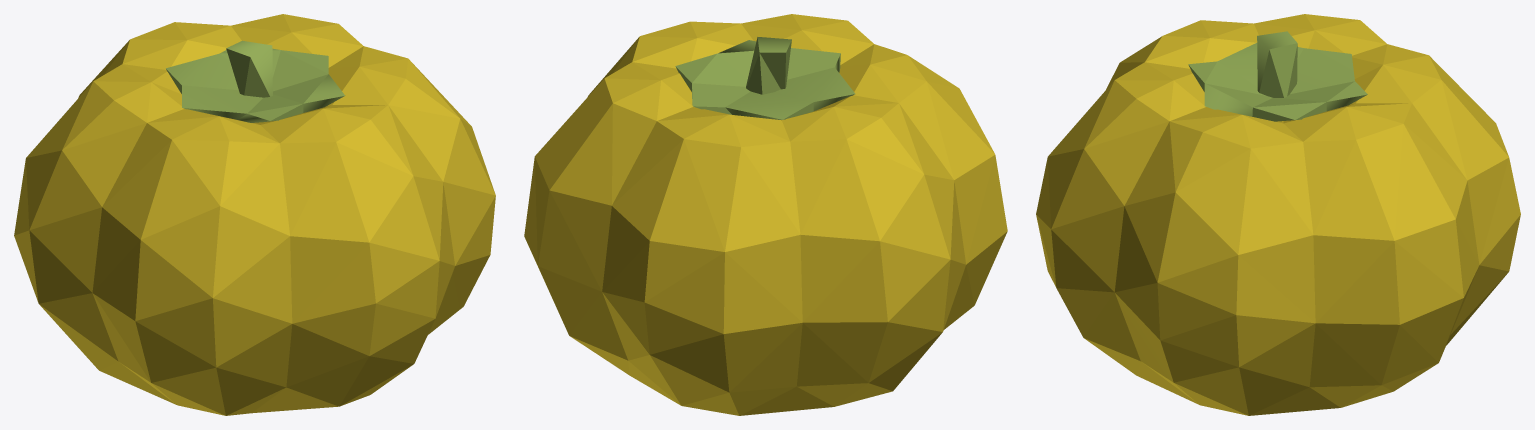
Rendered from Pumpkin_02.fbx.
3 views of the same model, side by side, from view 1: azimuth 30°, elevation 25°; view 2: azimuth 150°, elevation 25°; view 3: azimuth 270°, elevation 25° (orthographic).
Visible parts, largest first — view 1: Pumpkin_02; view 2: Pumpkin_02; view 3: Pumpkin_02.
Part boxes in pixels (x1,y1,x2,y2): Pumpkin_02: (14, 14, 495, 415); Pumpkin_02: (524, 14, 1007, 415); Pumpkin_02: (1036, 14, 1520, 415).
Size of the model in its own units: 33.87 by 25.33 by 34.43.
